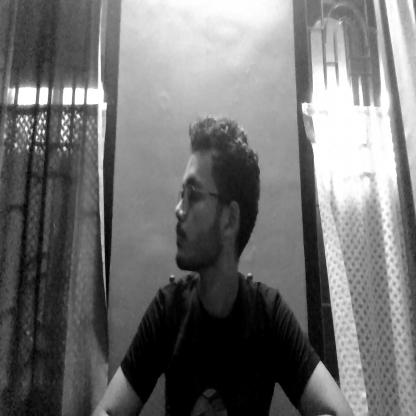Distracted: (169, 127, 258, 270)
